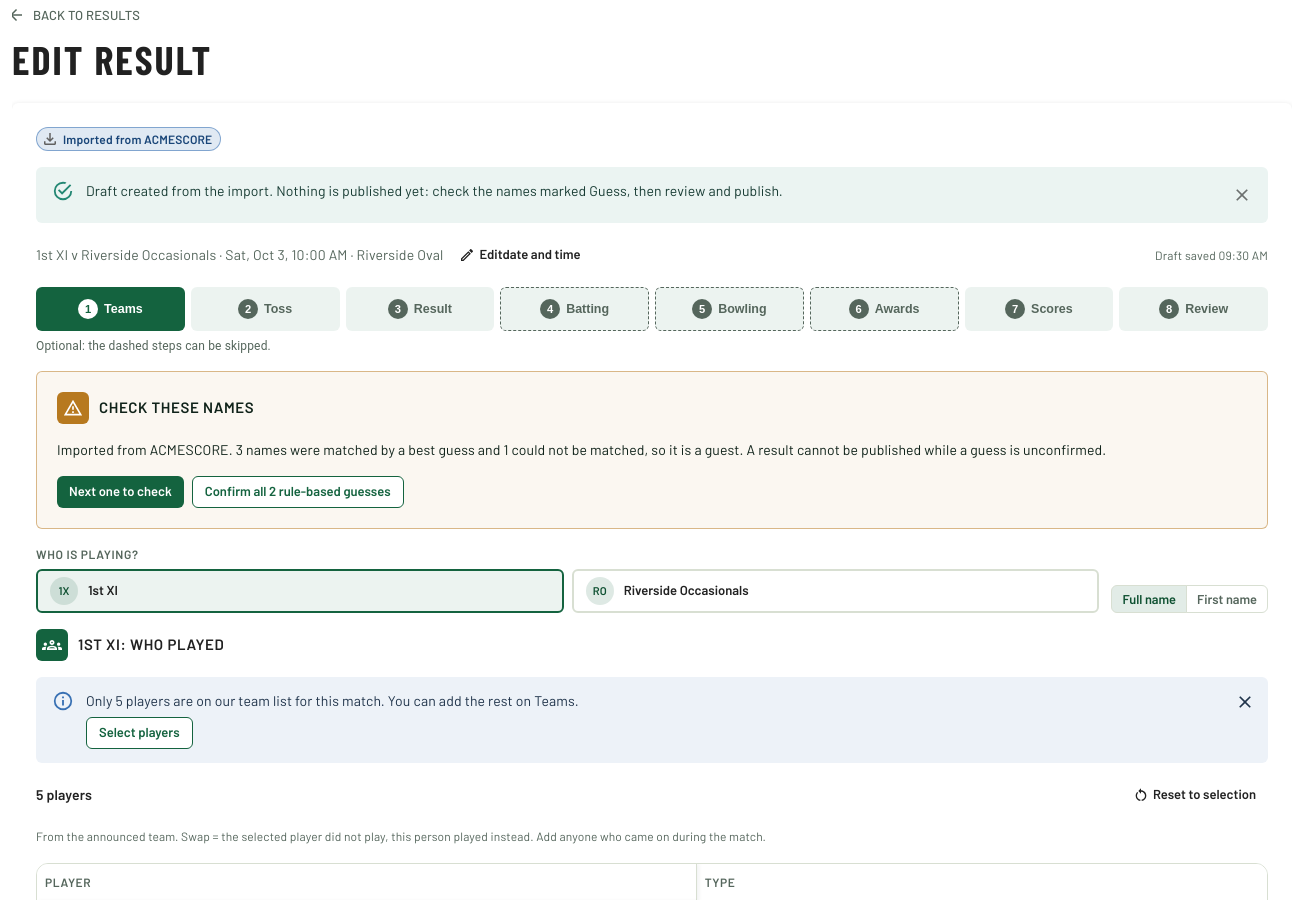
Test case: an imported draft in the capture wizard › the toss warning › shows nothing when the toss is complete, or for a manual result
Check: the heading "Edit result" is shown, box [12,35,212,83]
Check: the element with test id "import-guess-banner" is shown, box [36,371,1268,529]
Click the button "2 Toss".
click(265, 309)  # box [191,287,340,331]
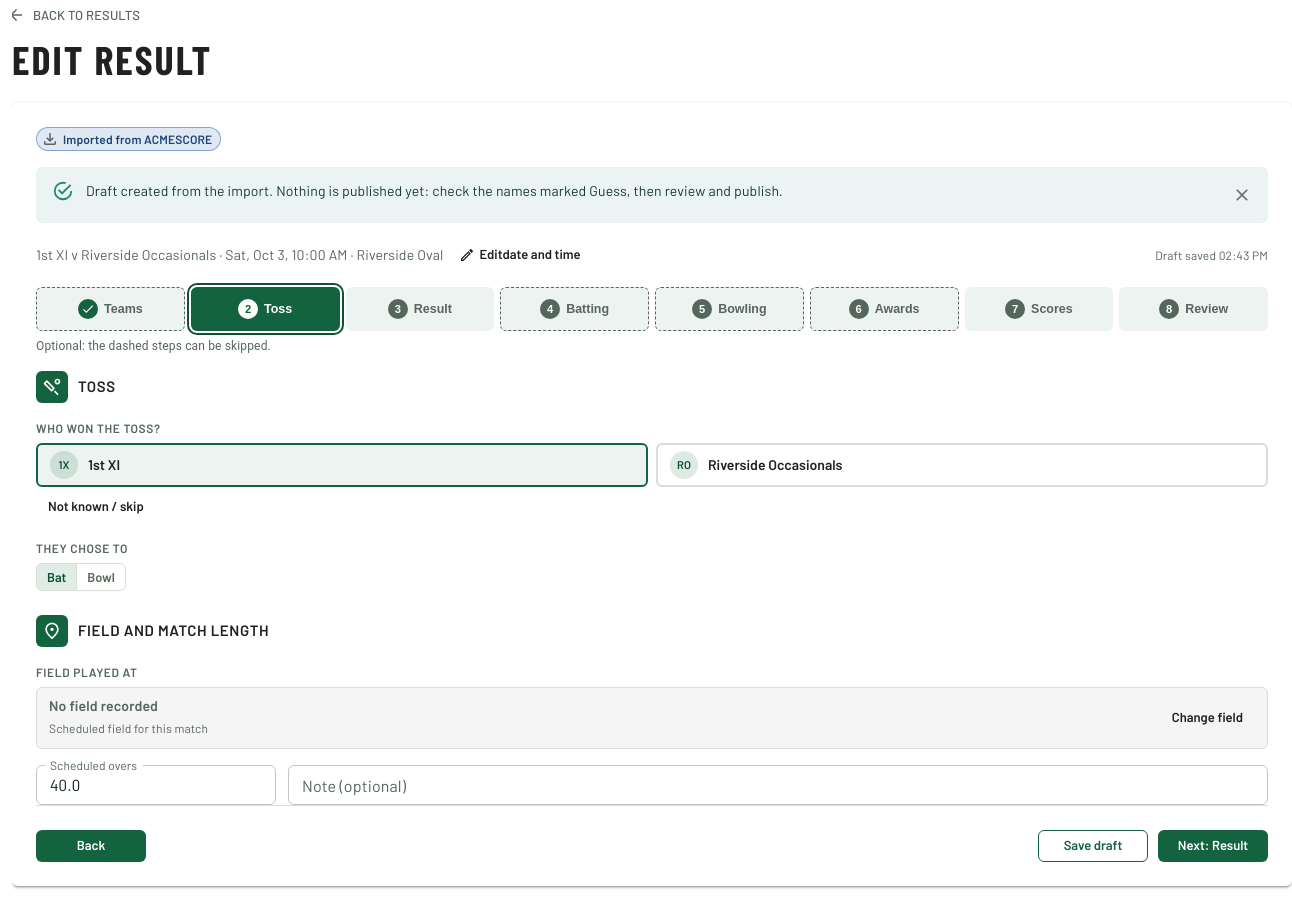
Check: the text "Who won the toss?" is shown, box [36,421,161,435]
